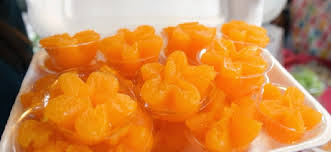tongyip: (49, 70, 136, 139), (140, 52, 212, 113), (262, 82, 322, 142), (203, 37, 273, 80), (104, 19, 161, 69), (163, 19, 218, 51), (223, 17, 275, 48)
